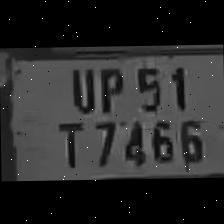1: (165, 58, 190, 110)
4: (116, 112, 144, 165)
5: (130, 59, 163, 112)
6: (174, 114, 204, 164), (146, 114, 174, 164)
7: (86, 116, 117, 166)
P: (92, 60, 125, 113)
T: (51, 116, 86, 169)
U: (64, 61, 97, 112)
